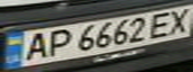2: (127, 14, 151, 44)
6: (75, 21, 100, 52), (93, 19, 115, 49), (112, 17, 133, 46)
A: (18, 30, 54, 62)
E: (145, 10, 178, 38)
P: (42, 27, 75, 57)
X: (163, 7, 193, 35)
